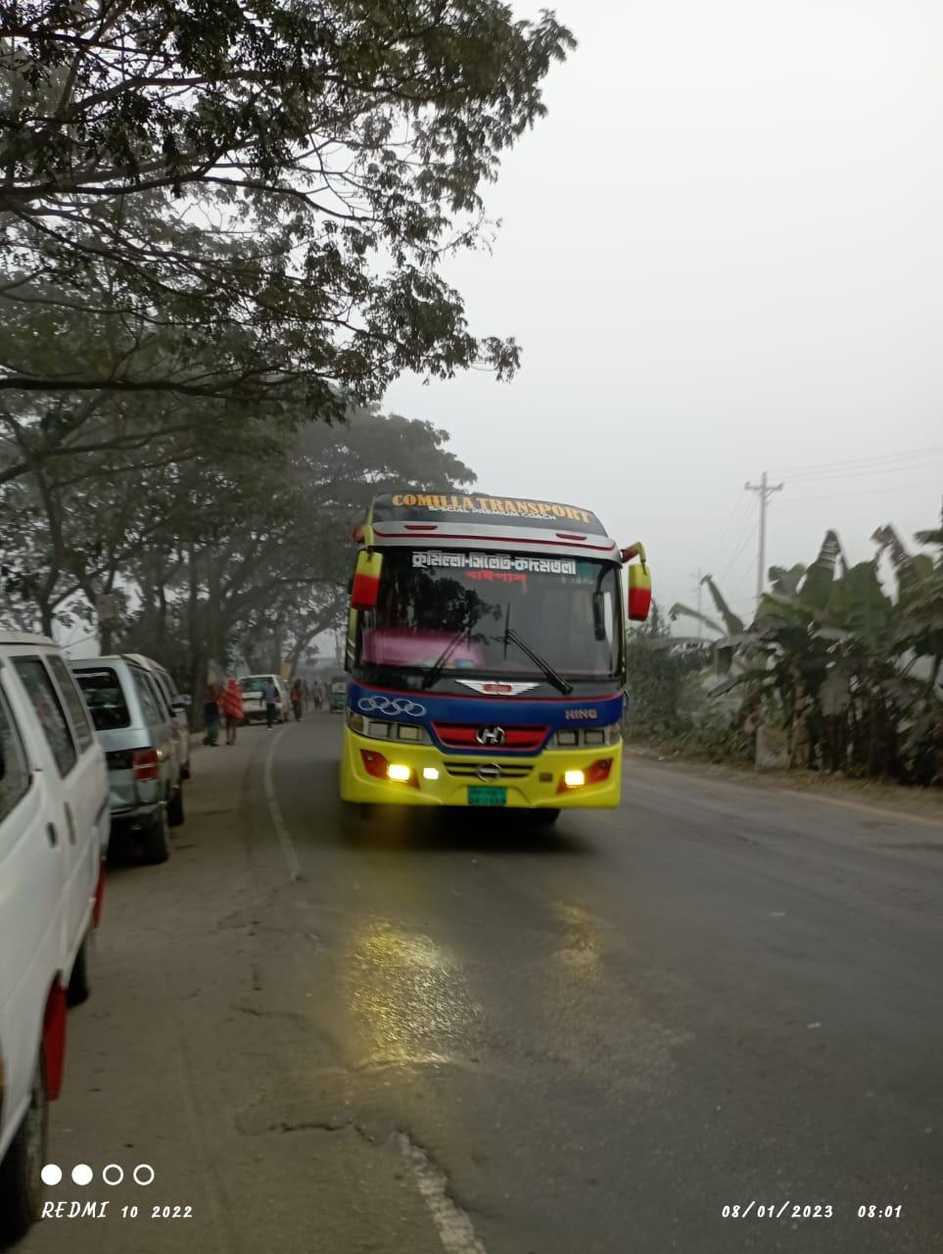Bus: (337, 478, 651, 843)
Car: (78, 648, 200, 873), (227, 666, 300, 736)
